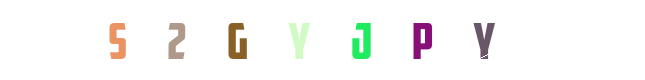2: (198, 0, 278, 80)
G: (245, 0, 325, 80)
J: (307, 0, 387, 80)
P: (322, 0, 402, 80)
S: (77, 0, 157, 80)
Y: (283, 0, 363, 80), (382, 0, 462, 80)
